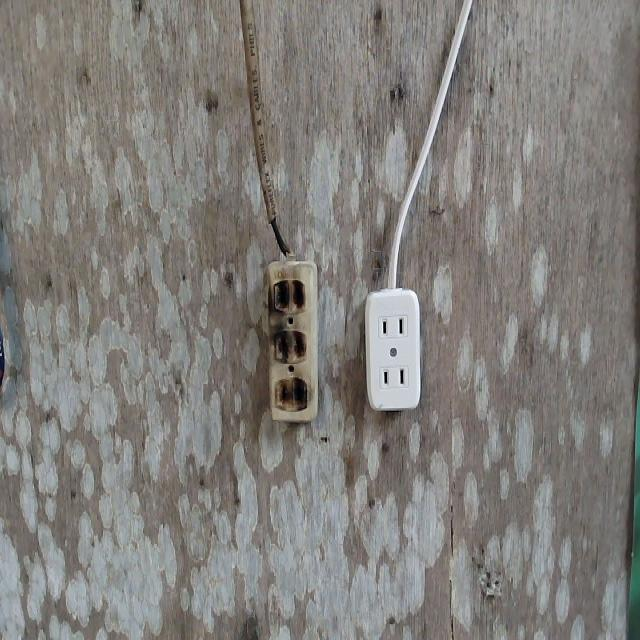-: (267, 273, 309, 420)
